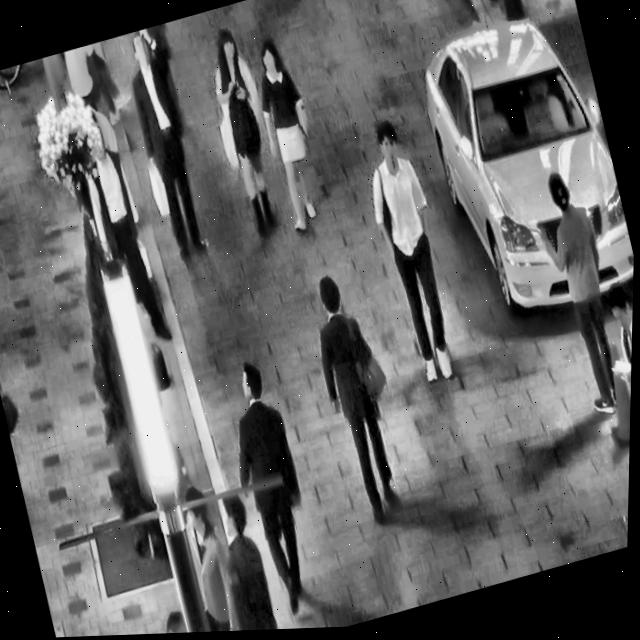light_vehicle: (398, 0, 640, 347)
